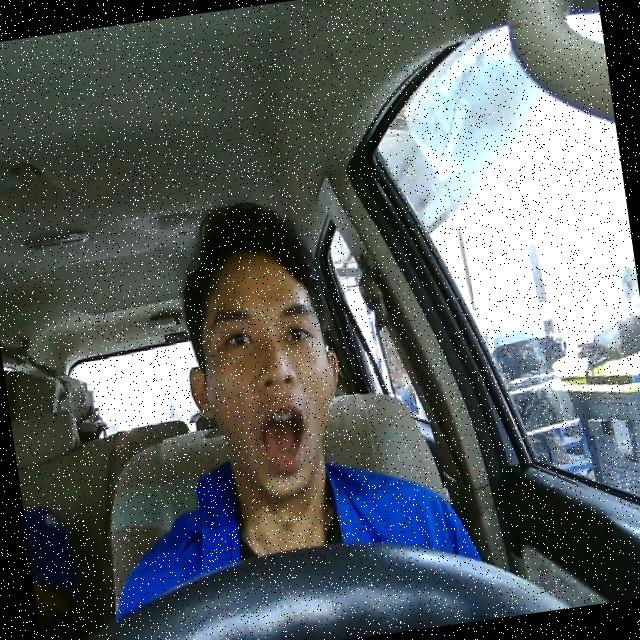yarning: (172, 235, 354, 508)
